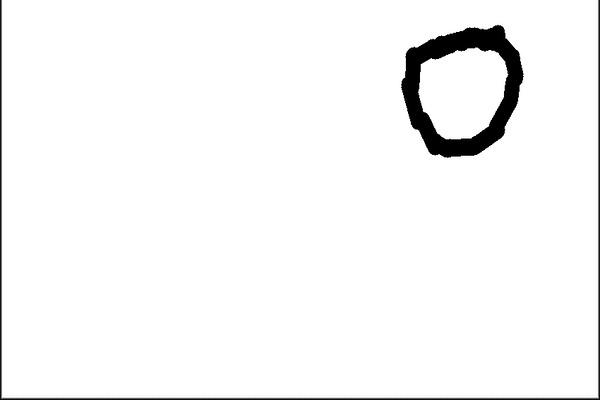O: (392, 12, 532, 168)
